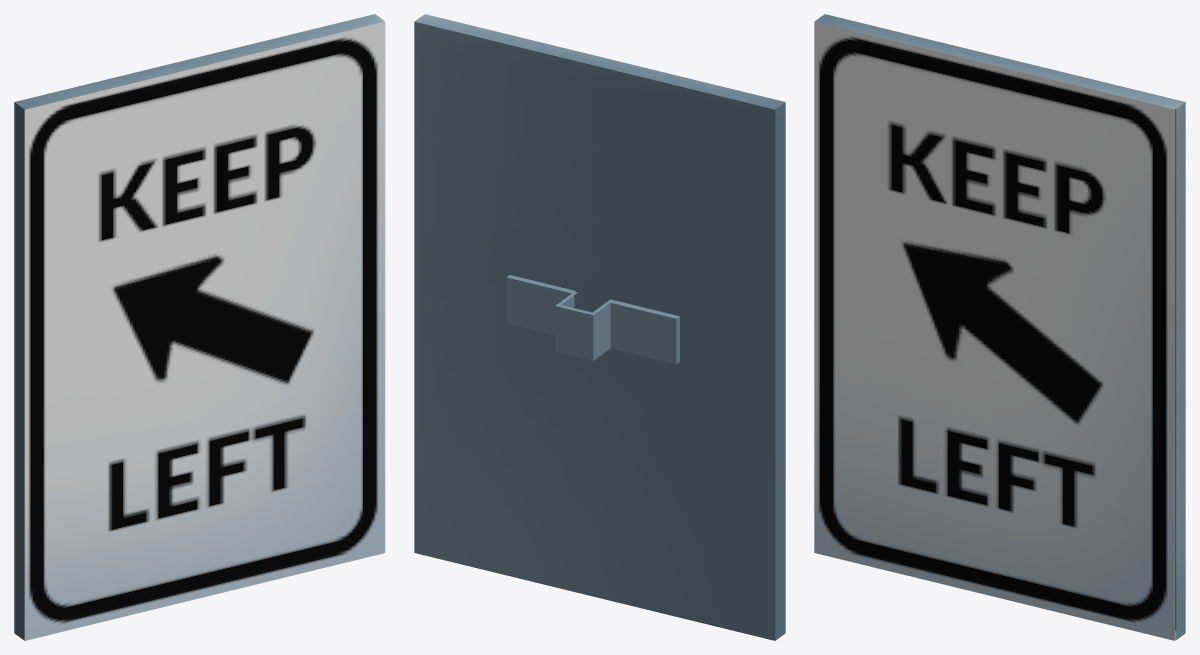
Rendered from Sign64.fbx.
3 views of the same model, side by side, from view 1: azimuth 30°, elevation 25°; view 2: azimuth 150°, elevation 25°; view 3: azimuth 330°, elevation 25° (orthographic).
Parts seen in each view (by area): view 1: Sign64; view 2: Sign64; view 3: Sign64.
Part boxes in pixels (x1,y1,x2,y2): Sign64: (14, 14, 385, 640); Sign64: (414, 14, 785, 640); Sign64: (814, 14, 1185, 640).
Bounding box in the file's own units: 1 × 0.1489 × 1.41.
